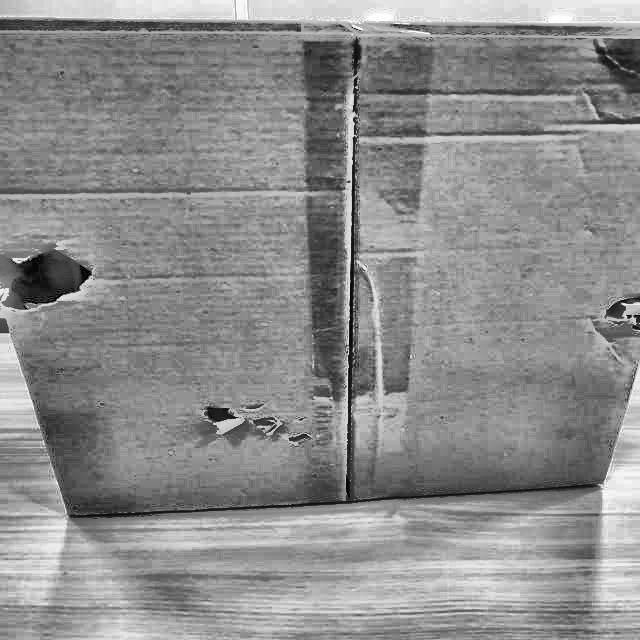box: (0, 18, 639, 531)
hole: (8, 246, 102, 317), (191, 402, 297, 435), (596, 283, 640, 331)
